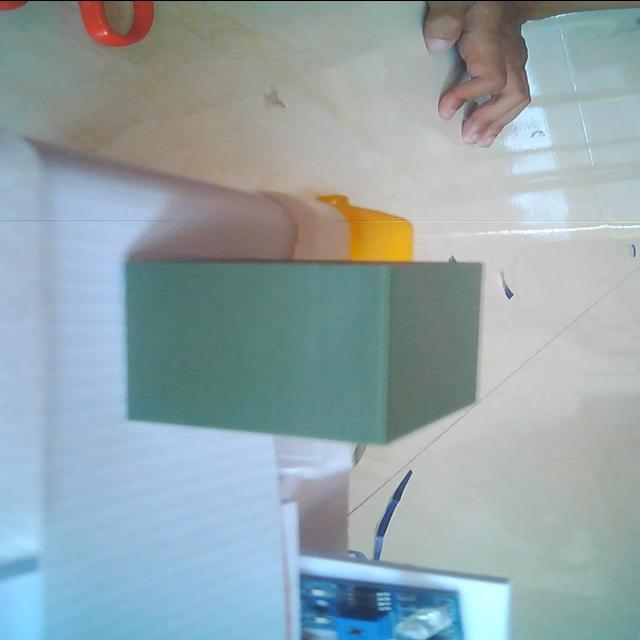green: (113, 252, 498, 450)
